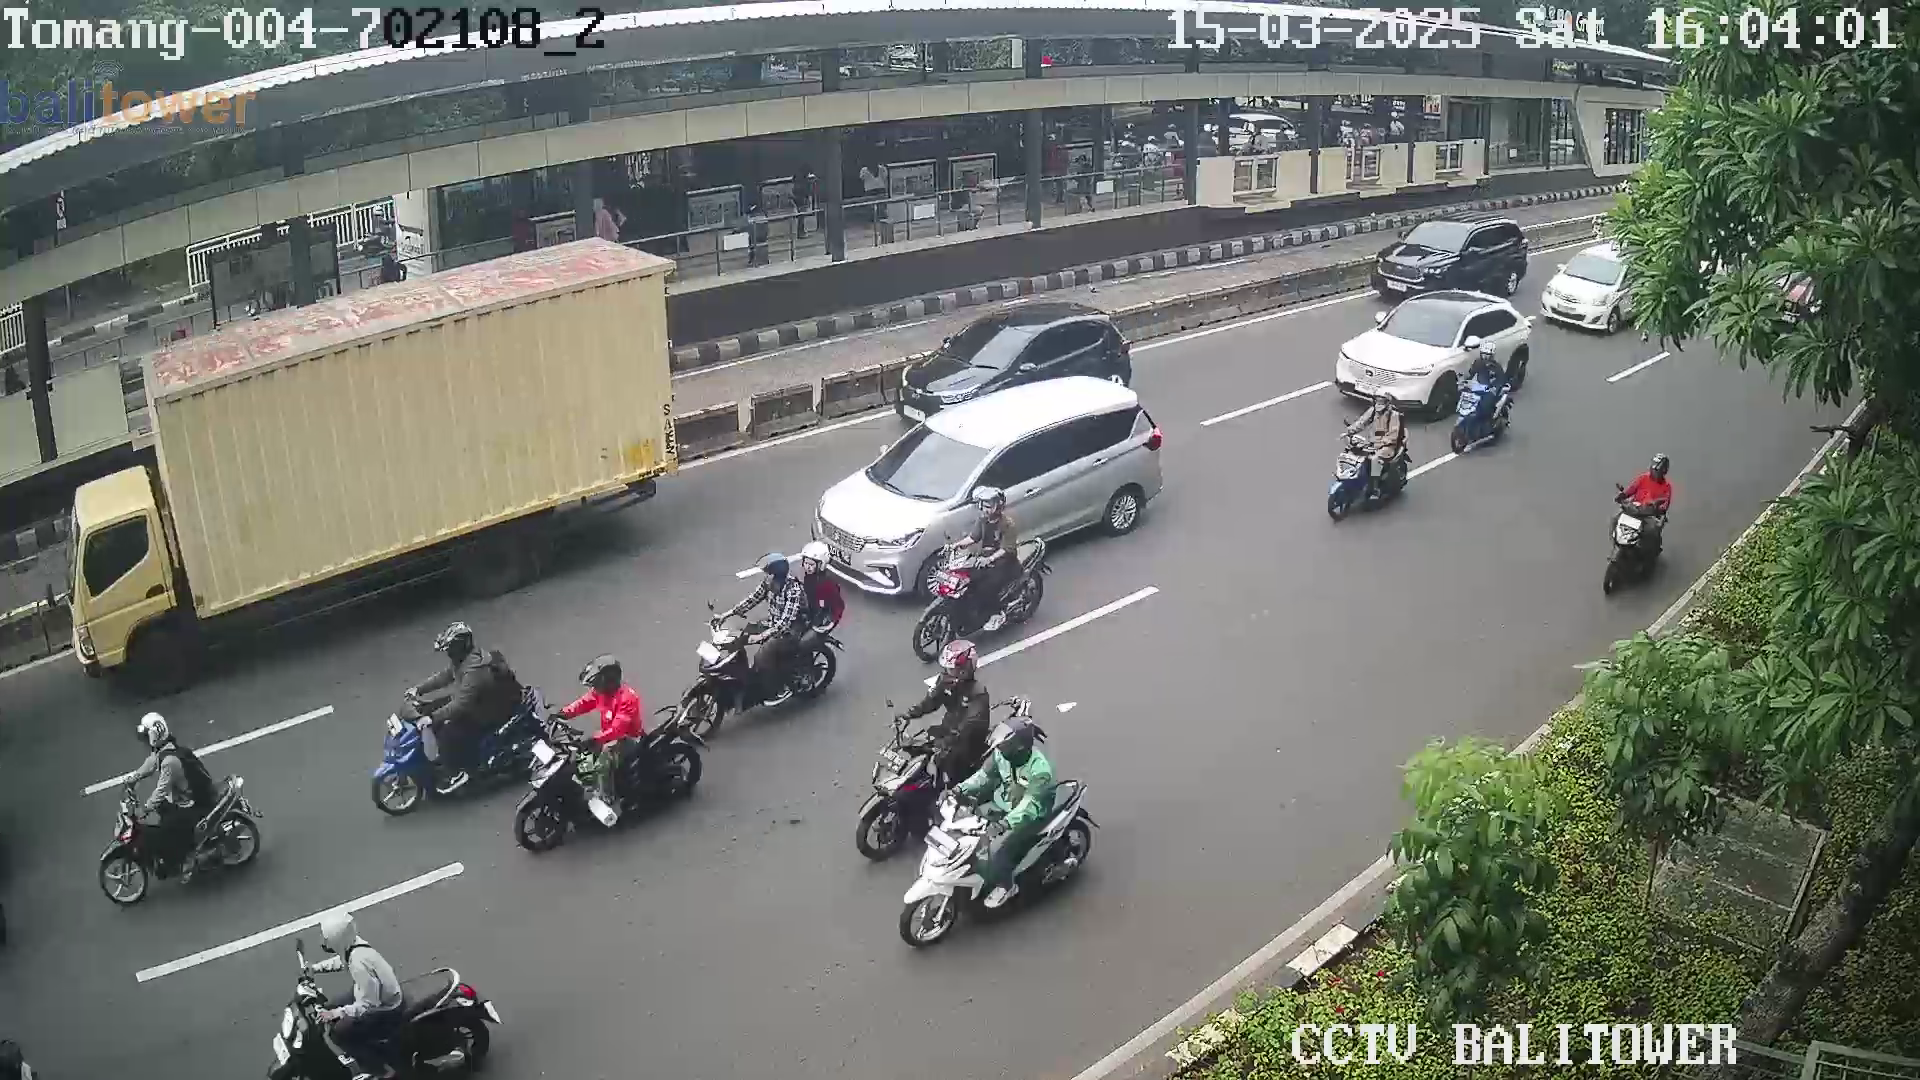half-face helmet: (566, 653, 639, 720), (980, 718, 1049, 784), (927, 637, 986, 684), (431, 614, 480, 667), (131, 714, 176, 755), (798, 531, 833, 578), (757, 553, 798, 590), (974, 486, 1012, 520), (1365, 388, 1402, 420), (1649, 449, 1668, 490), (1478, 335, 1498, 367)
no helmet: (308, 904, 366, 967)
